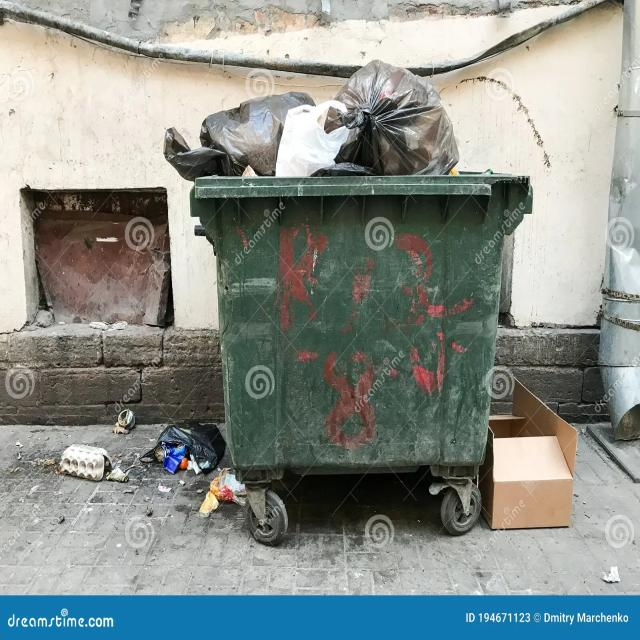plastic: (163, 59, 460, 182), (478, 377, 577, 529), (138, 421, 225, 475), (58, 443, 129, 483), (197, 467, 247, 519), (113, 408, 136, 434), (603, 566, 621, 583), (158, 486, 172, 492), (480, 169, 493, 175)
